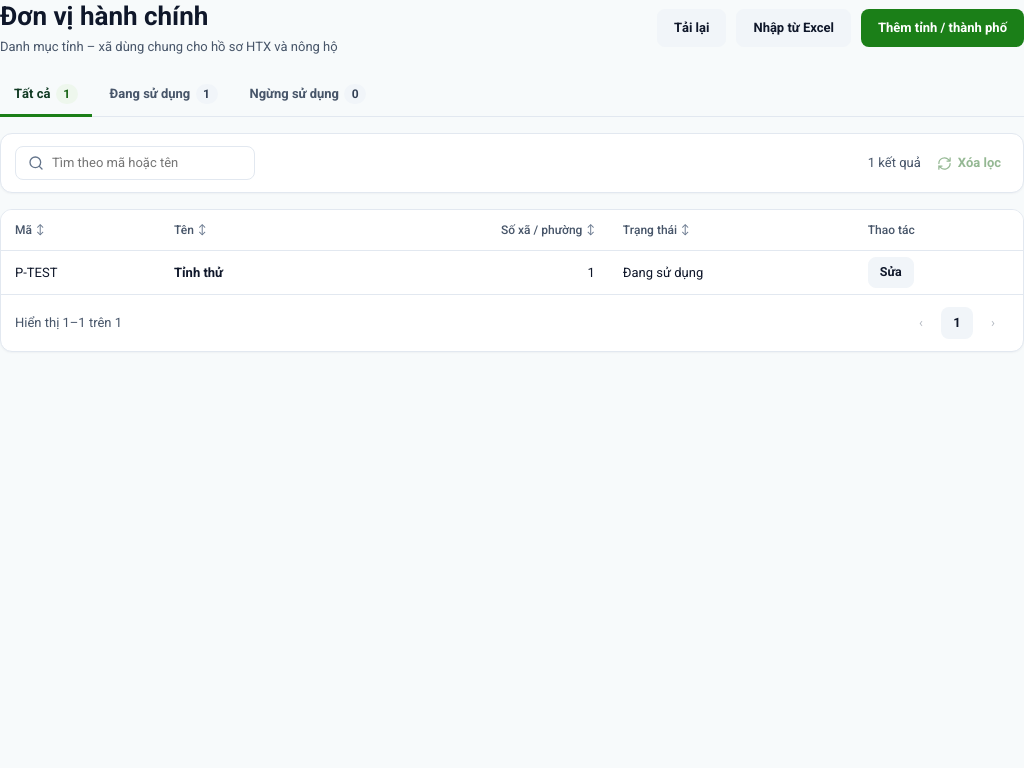
AH-271: danh mục đơn vị hành chính › chọn tỉnh ra xã, không giả số HTX là 0, ngừng dùng gửi phiên bản và không xóa
What coordinates should you click on to do the following:
click the button "Tỉnh thử"
I would click on:
 (198, 272)
Its box is x1=174 y1=262 x2=223 y2=282.
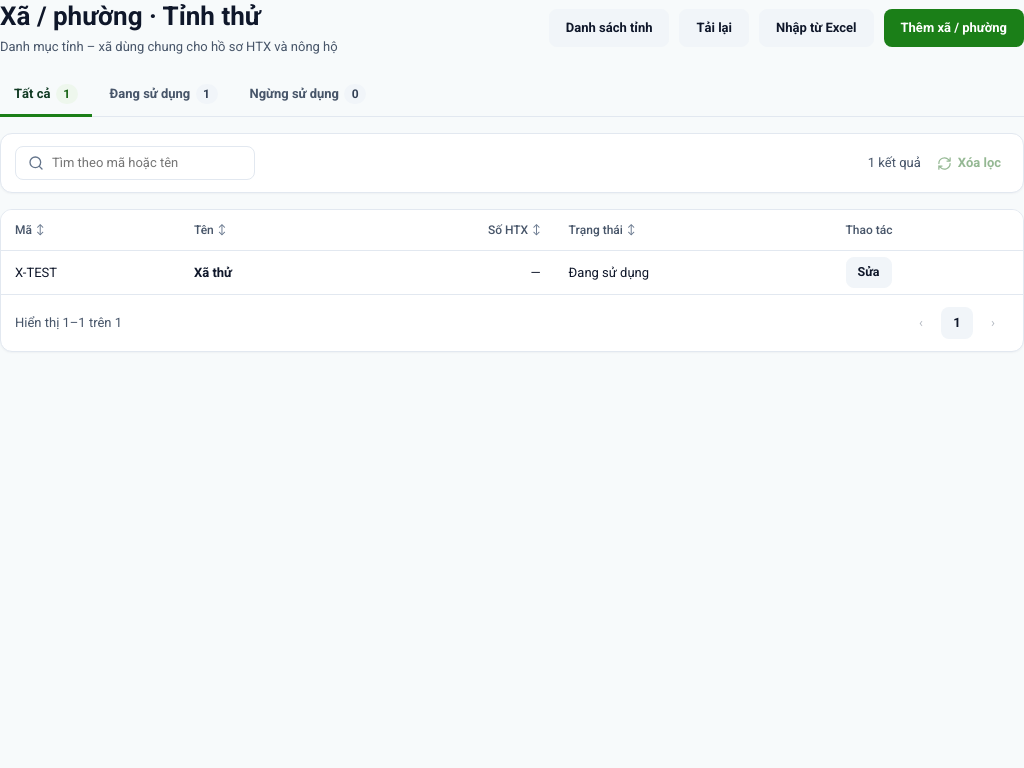
Expected: the text "—" is shown, x1=348 y1=250 x2=555 y2=294
Expected: the button "Xã thử" is shown, x1=194 y1=262 x2=232 y2=282
What coordinates should you click on to do the following:
click the button "Sửa"
I would click on:
 (868, 272)
Its box is x1=846 y1=257 x2=892 y2=288.
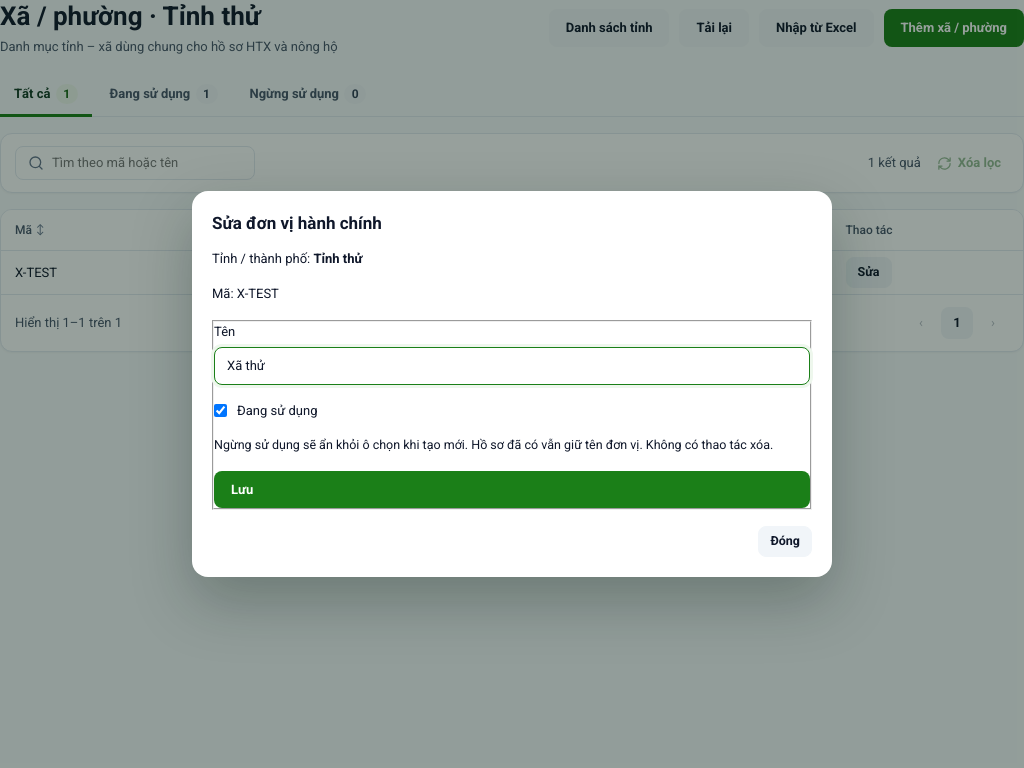
Expected: the text "Mã: X-TEST" is shown, x1=212 y1=286 x2=279 y2=301
What coordinates should you click on to do the following:
click the checkbox labelled "Đang sử dụng"
I would click on:
 (220, 410)
Its box is x1=214 y1=404 x2=227 y2=417.
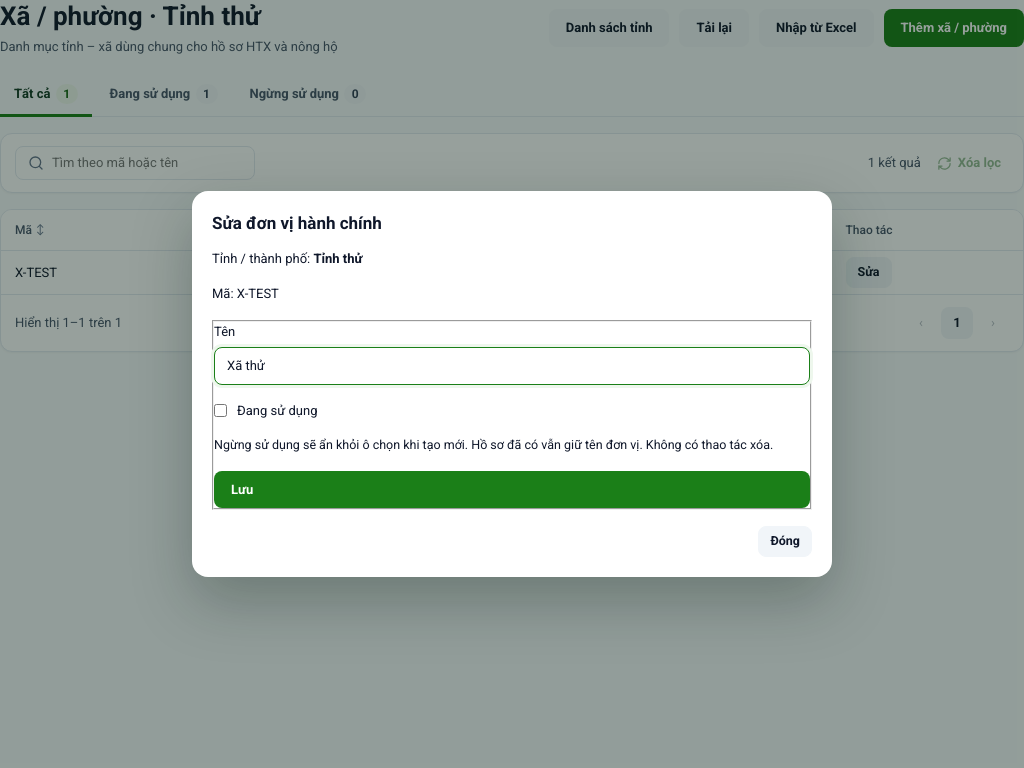
What coordinates should you click on to do the following:
click the button "Lưu"
I would click on:
 (242, 489)
Its box is x1=214 y1=471 x2=810 y2=508.
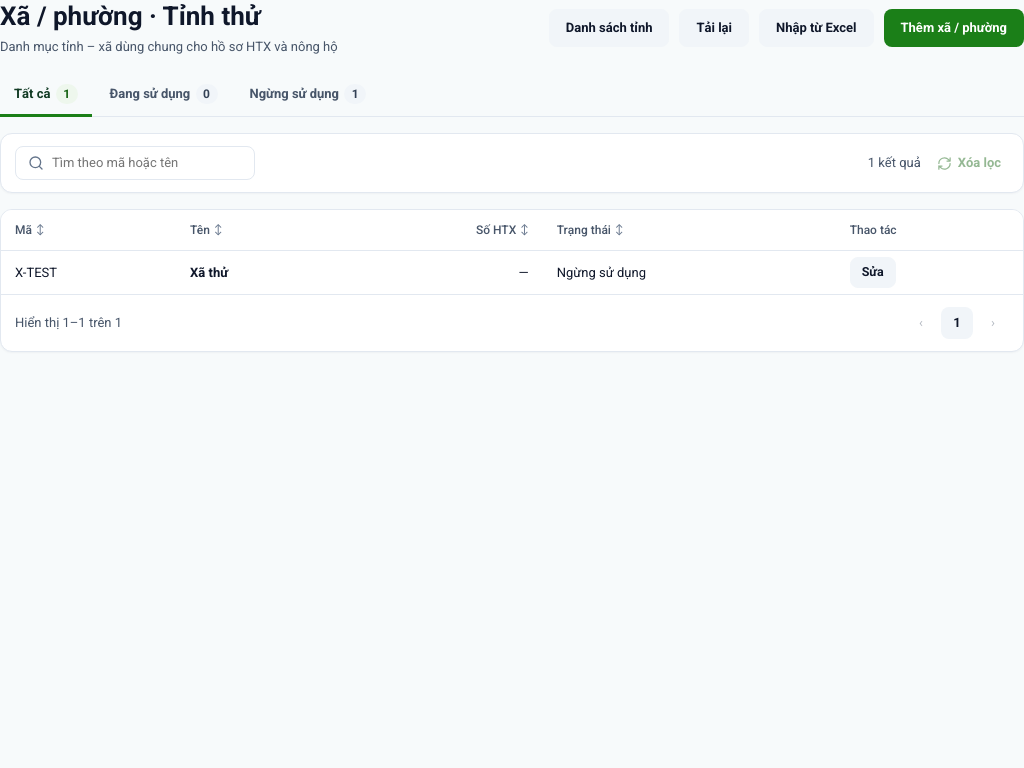
Expected: the tab "Ngừng sử dụng 1" is shown, x1=236 y1=74 x2=380 y2=117
